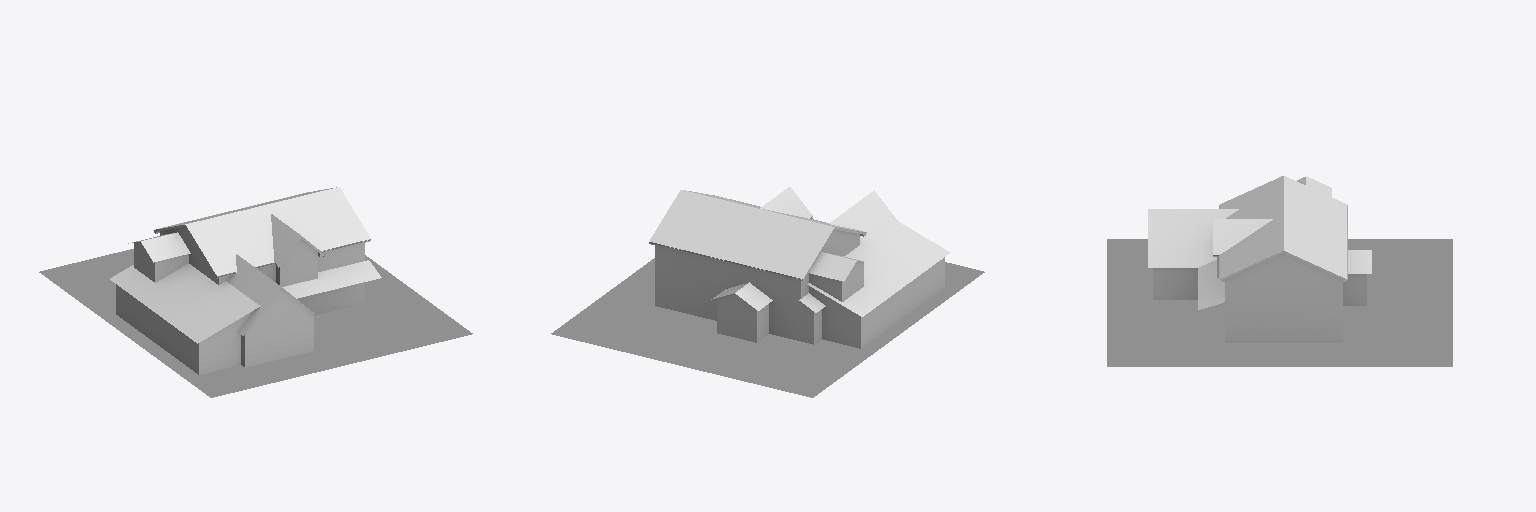
The picture shows the model from 3 angles: view 1: azimuth 30°, elevation 25°; view 2: azimuth 150°, elevation 25°; view 3: azimuth 270°, elevation 25°; orthographic projection.
Parts seen in each view (by area): view 1: object_1.002, object_2; view 2: object_1.002, object_2; view 3: object_1.002, object_2.
Boxes of the visible parts, x1=… form: object_1.002: x1=110, y1=187, x2=381, y2=374; object_2: x1=39, y1=249, x2=472, y2=397; object_1.002: x1=649, y1=187, x2=950, y2=348; object_2: x1=551, y1=258, x2=984, y2=397; object_1.002: x1=1148, y1=176, x2=1371, y2=342; object_2: x1=1107, y1=239, x2=1452, y2=366.
Bounding box in the file's own units: 81.06 × 27.74 × 92.4.
2 materials, 1 textured.